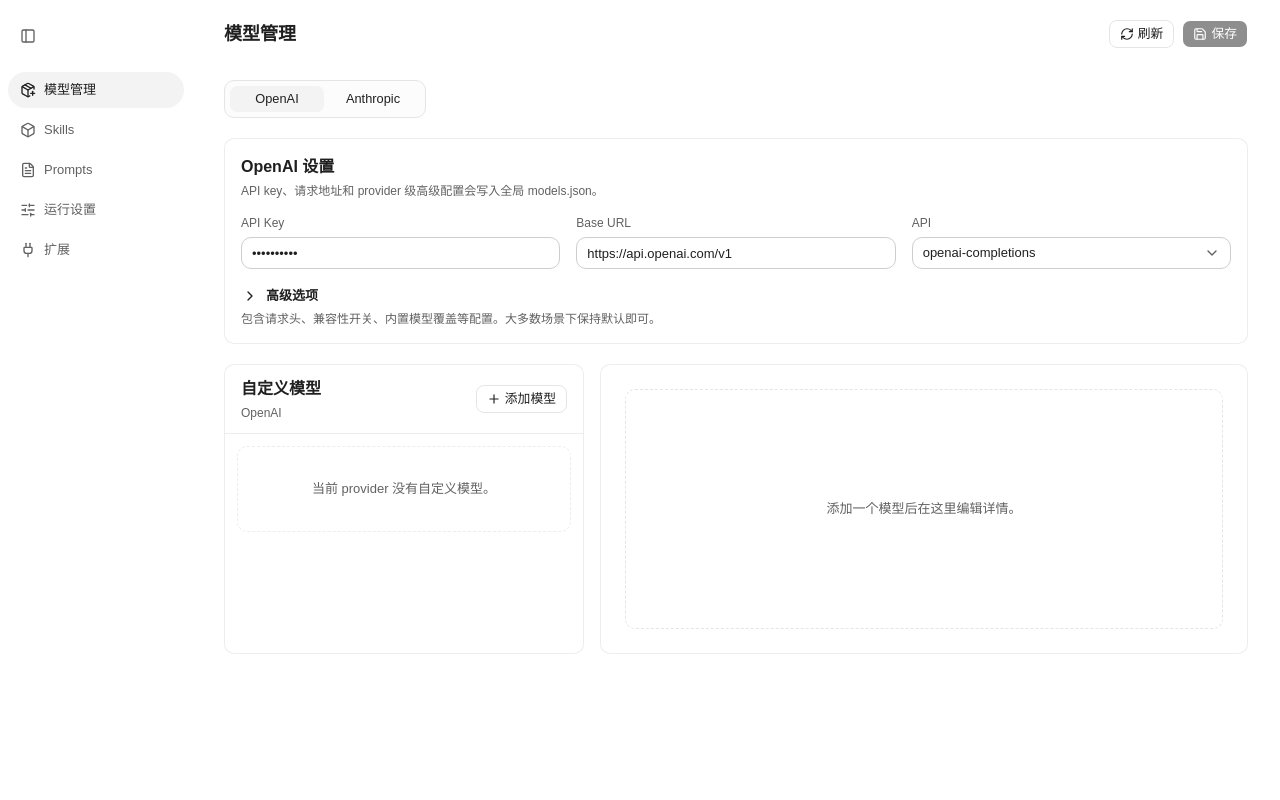
Test: SettingsApp › adds a custom model row from the model management tab
Click the button "添加模型": (521,399) left=476, top=385, right=567, bottom=413
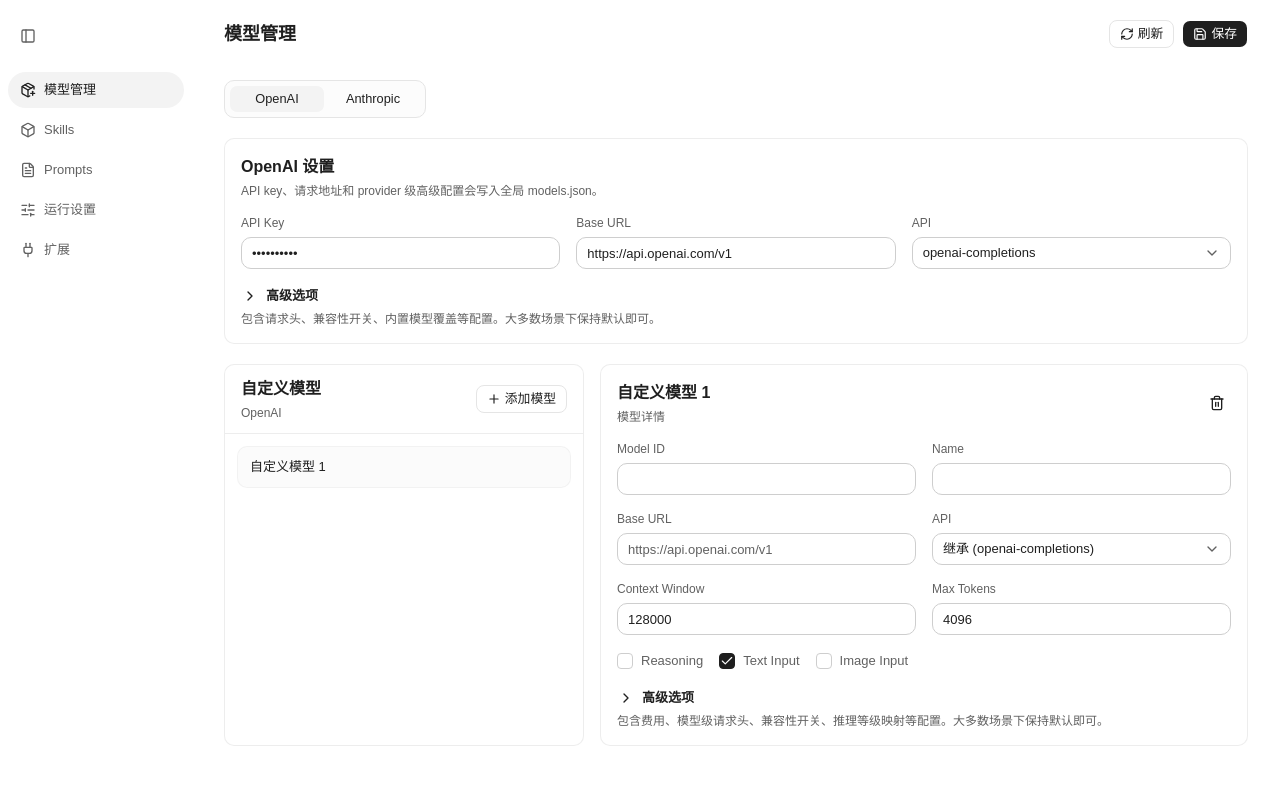
Expected: the heading "自定义模型 1" is shown, left=617, top=381, right=710, bottom=405
Expected: the field showing "128000" is shown, left=617, top=603, right=916, bottom=635
Expected: the button "保存" is enabled, left=1182, top=20, right=1248, bottom=48
